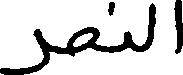X: (0, 24, 47, 74), (70, 22, 98, 61), (176, 0, 182, 74), (147, 0, 154, 54), (125, 26, 130, 53)
